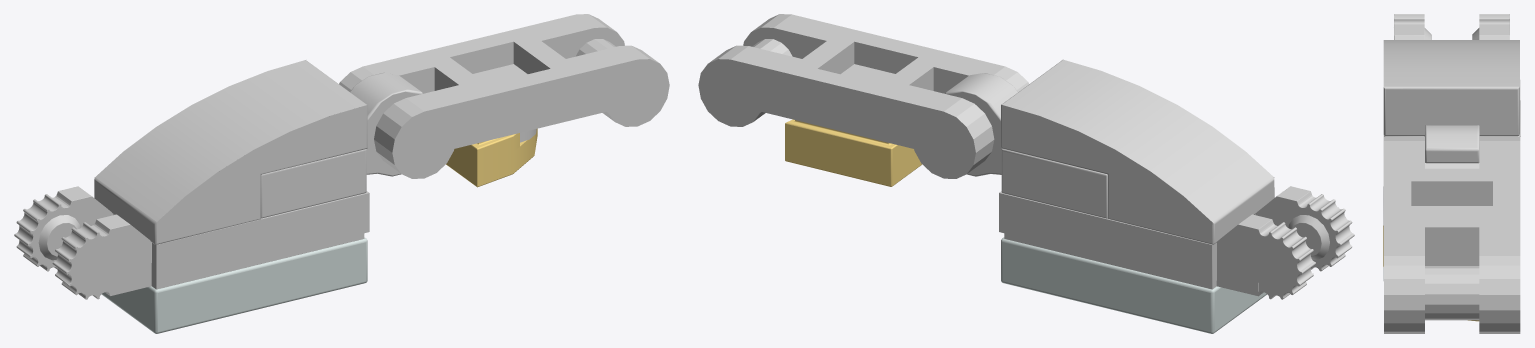
The model's file is Passo35.fbx.
3 views of the same model, side by side, from view 1: azimuth 30°, elevation 25°; view 2: azimuth 150°, elevation 25°; view 3: azimuth 270°, elevation 25° (orthographic). The views are drawn at different scales.
Visible parts, largest first — view 1: Plate_special_1x1_2, Slope_curved_2x1.012, Hinge_plate_2x1.008, Plate_1x2.029, Plate_special_1x1.001, Tile_round_1x1_2.011; view 2: Plate_special_1x1_2, Slope_curved_2x1.012, Hinge_plate_2x1.008, Plate_1x2.029, Plate_special_1x1.001, Tile_round_1x1_2.011; view 3: Plate_special_1x1_2, Slope_curved_2x1.012, Plate_special_1x1.001, Hinge_plate_2x1.008.
Boxes of the visible parts, x1,y1,x2,y2 form: Plate_special_1x1_2: [339, 14, 669, 178]; Slope_curved_2x1.012: [94, 60, 367, 244]; Hinge_plate_2x1.008: [14, 186, 369, 299]; Plate_1x2.029: [101, 237, 367, 333]; Plate_special_1x1.001: [261, 72, 422, 218]; Tile_round_1x1_2.011: [446, 128, 537, 187]; Plate_special_1x1_2: [698, 14, 1028, 178]; Slope_curved_2x1.012: [1001, 59, 1274, 244]; Hinge_plate_2x1.008: [999, 186, 1354, 299]; Plate_1x2.029: [1001, 237, 1267, 333]; Plate_special_1x1.001: [945, 73, 1107, 218]; Tile_round_1x1_2.011: [785, 119, 922, 186]; Plate_special_1x1_2: [1384, 137, 1520, 333]; Slope_curved_2x1.012: [1383, 40, 1519, 136]; Plate_special_1x1.001: [1384, 80, 1520, 163]; Hinge_plate_2x1.008: [1383, 14, 1509, 224].
Bounding box in the file's own units: 0.449 × 0.1283 × 0.0805.
